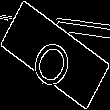O_NE: (29, 22, 81, 88)
